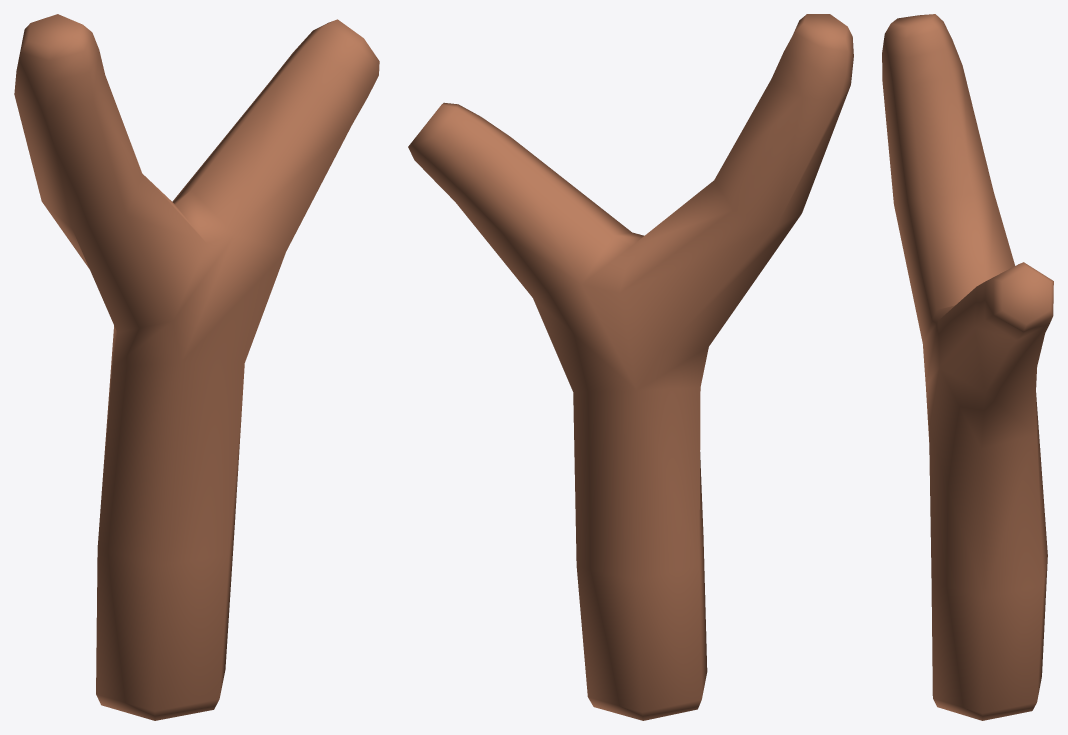
Rendered from Tree_Btm_B_02_LOD2.gltf.
The picture shows the model from 3 angles, left to right: view 1: azimuth 30°, elevation 25°; view 2: azimuth 150°, elevation 25°; view 3: azimuth 270°, elevation 25°; orthographic projection. The views are drawn at different scales.
Parts seen in each view (by area): view 1: Tree_Btm_B_02_LOD2_Cylinder.677; view 2: Tree_Btm_B_02_LOD2_Cylinder.677; view 3: Tree_Btm_B_02_LOD2_Cylinder.677.
Part boxes in pixels (box(x1,y1,x2,y2)): Tree_Btm_B_02_LOD2_Cylinder.677: box(14, 14, 379, 720); Tree_Btm_B_02_LOD2_Cylinder.677: box(408, 14, 853, 720); Tree_Btm_B_02_LOD2_Cylinder.677: box(882, 14, 1053, 720).
Bounding box in the file's own units: 3.53 × 6.08 × 1.51.
Materials: 1 (1 with a texture image).
